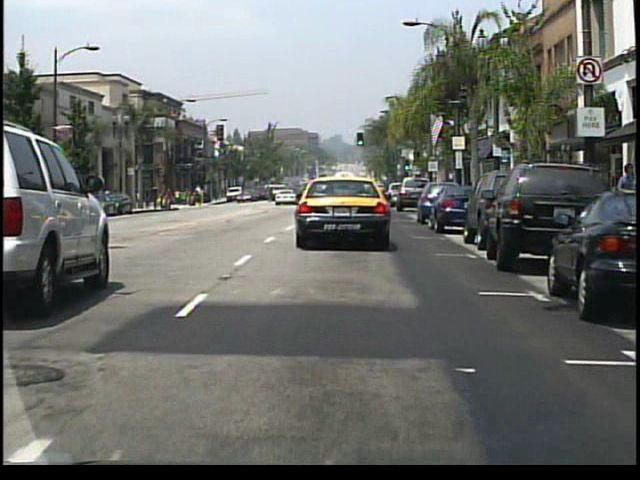person: (611, 162, 639, 189), (198, 190, 206, 206)
